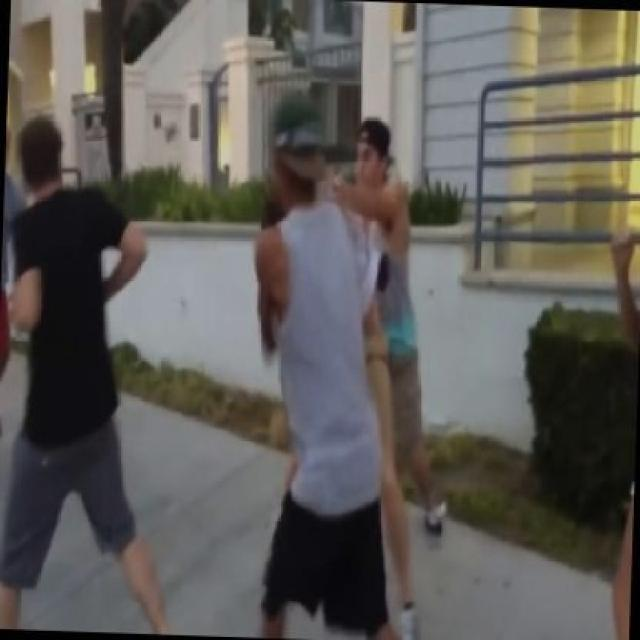fight: (216, 72, 478, 632)
non-fight: (1, 102, 172, 623)
